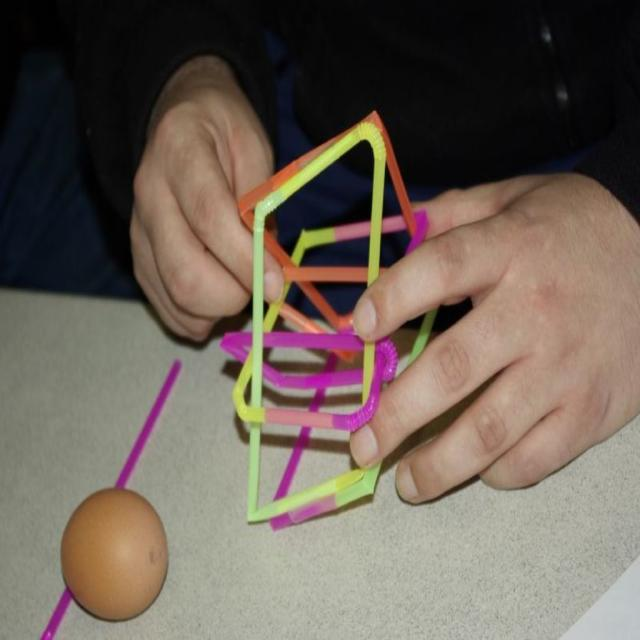Egg: (58, 486, 170, 620)
